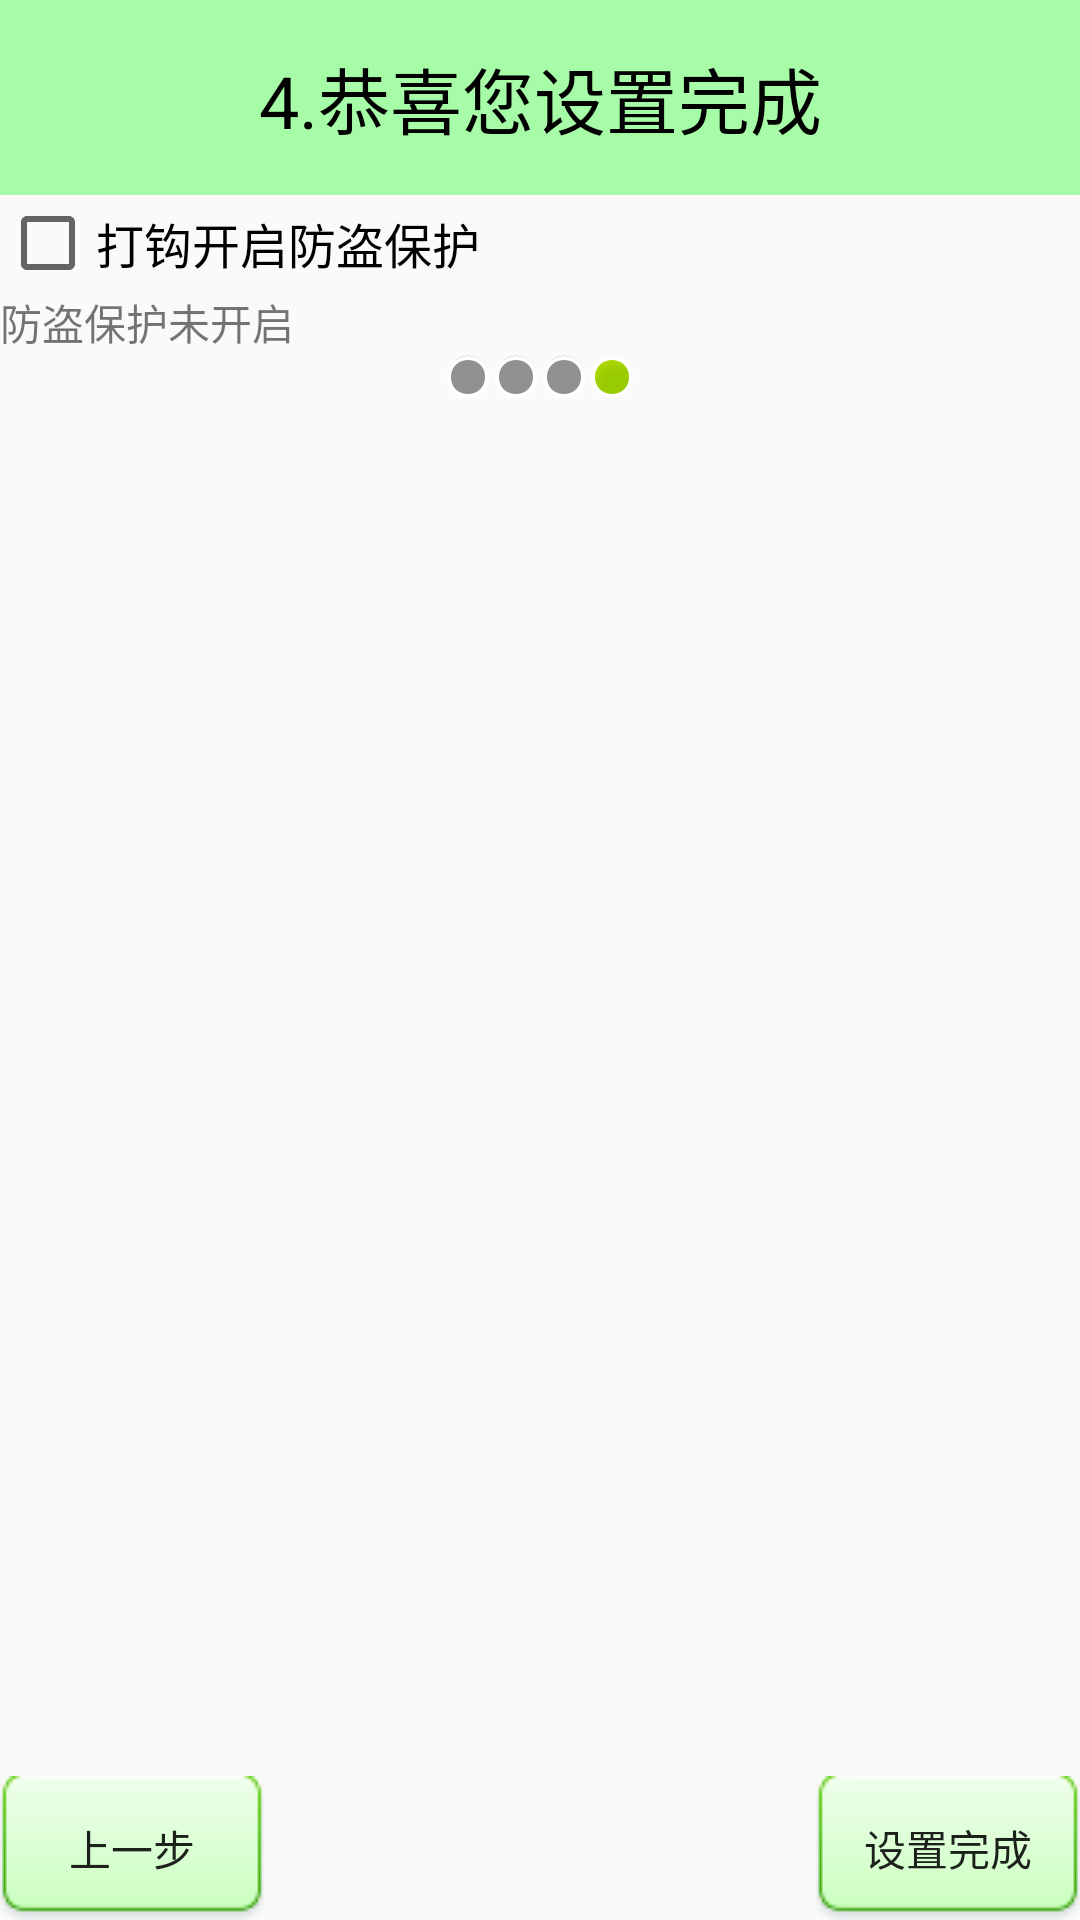

Icon bounding boxes for this 1080 x 1920 phone screenshot, format detection(x1, y1, x2, y2):
presence invisible: detection(451, 356, 485, 394), detection(499, 356, 533, 394), detection(547, 356, 581, 394)
presence online: detection(595, 360, 629, 394)
